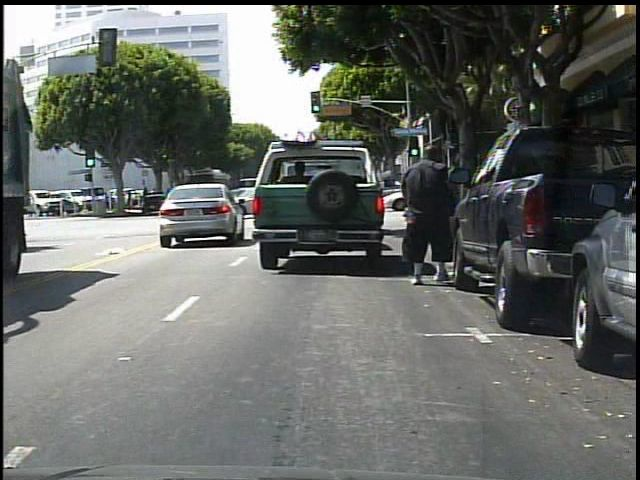person: (400, 143, 458, 290)
